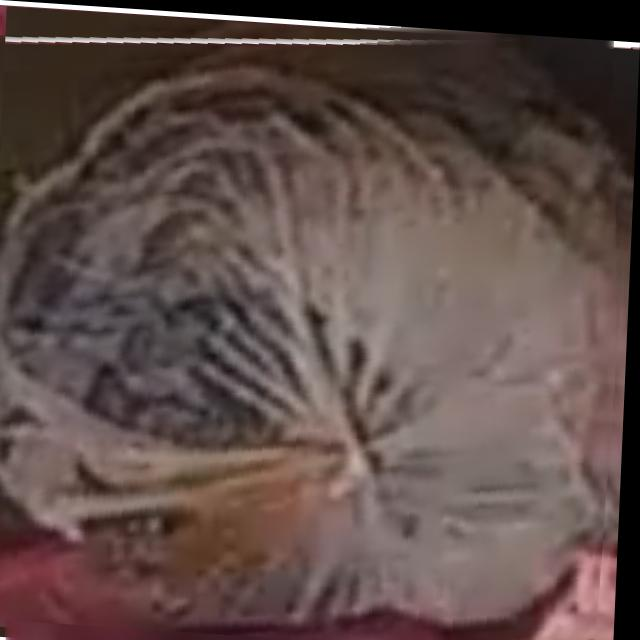other_trashbag: (0, 32, 622, 640), (402, 626, 406, 640), (383, 638, 386, 639)
